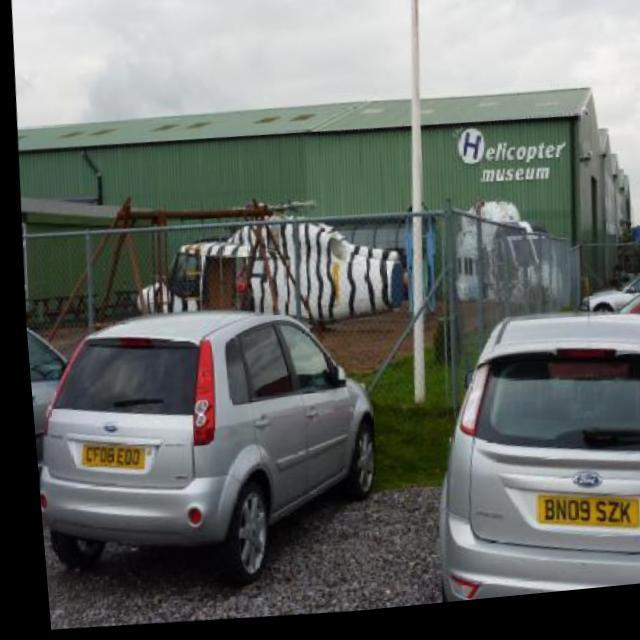license_plate: (72, 438, 140, 476)
